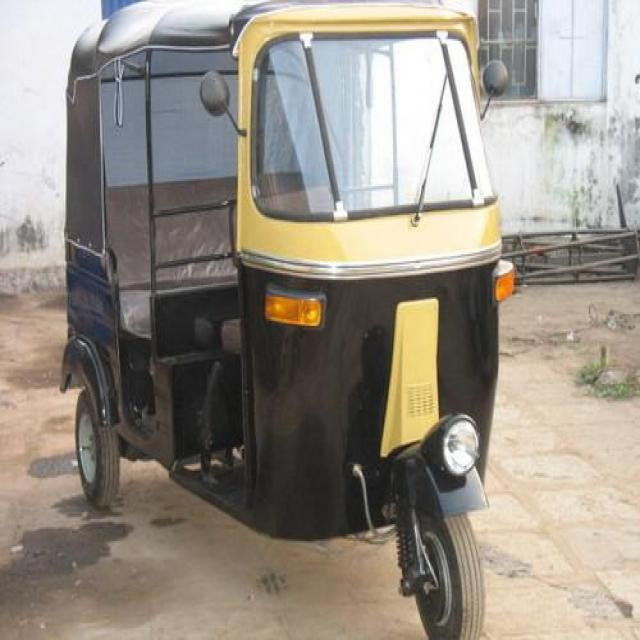auto ahead at: (48, 1, 517, 640)
